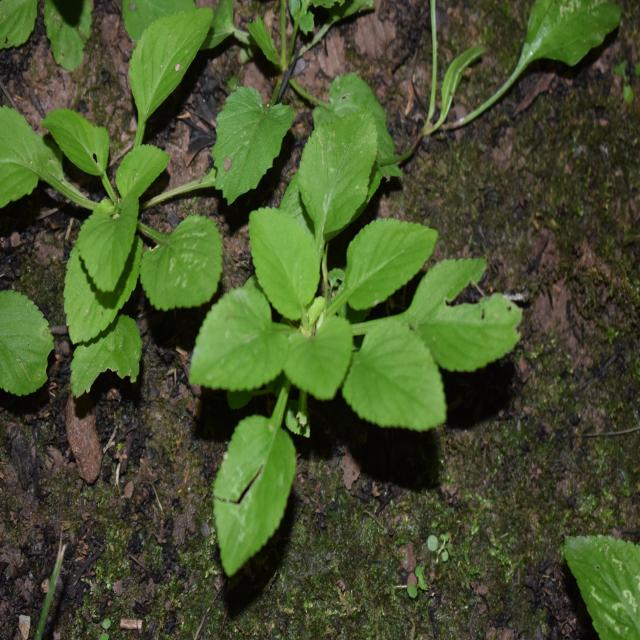Viola: (208, 116, 489, 545), (13, 36, 224, 386)
